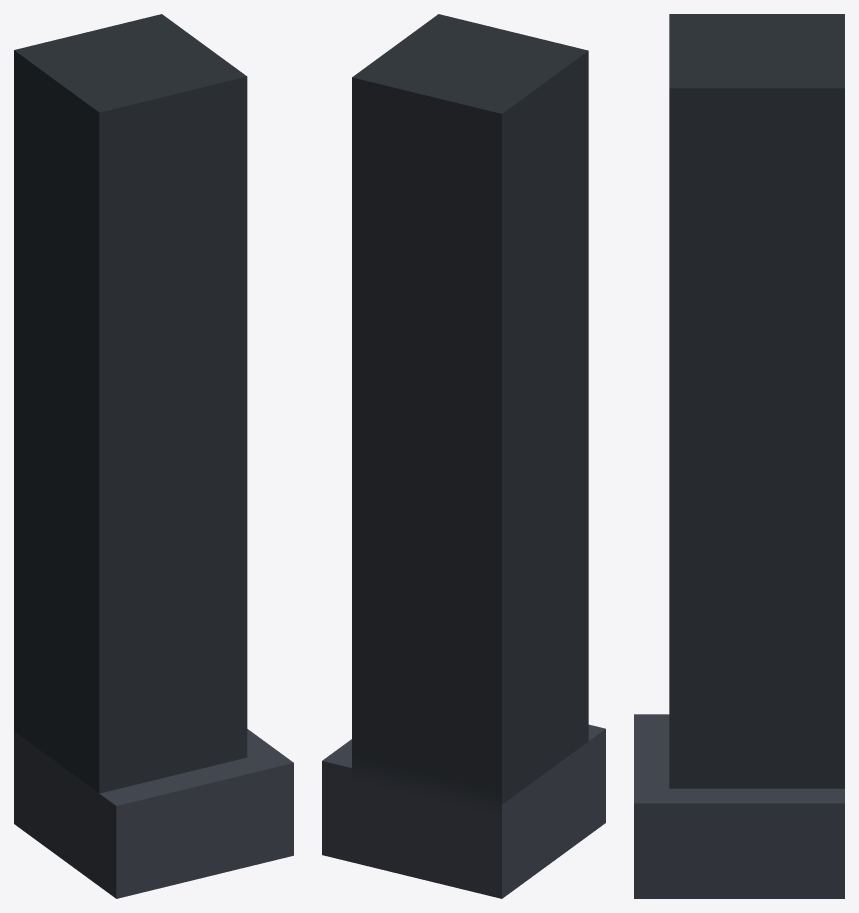
Rendered from Pillar.fbx.
The picture shows the model from 3 angles, left to right: view 1: azimuth 30°, elevation 25°; view 2: azimuth 150°, elevation 25°; view 3: azimuth 270°, elevation 25°; orthographic projection. The views are drawn at different scales.
Visible parts, largest first — view 1: Pillar; view 2: Pillar; view 3: Pillar.
Boxes of the visible parts, x1=… form: Pillar: x1=14, y1=14, x2=293, y2=898; Pillar: x1=322, y1=14, x2=605, y2=898; Pillar: x1=634, y1=14, x2=844, y2=898.
Bounding box in the file's own units: 60 × 250 × 60.
Materials: 1 (1 with a texture image).
